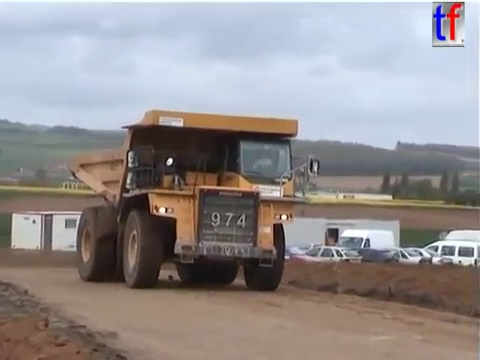truck: (63, 107, 322, 293)
